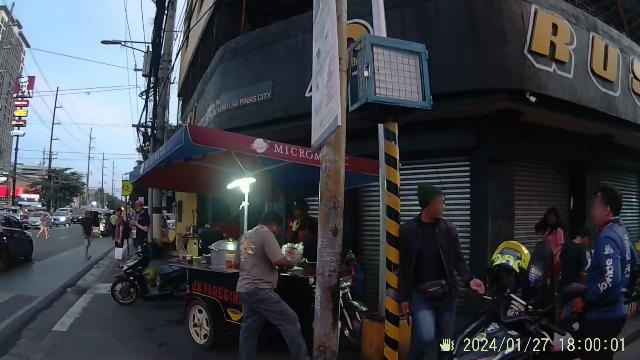motorcycle: (106, 236, 158, 306)
street_vendor_cart: (163, 134, 314, 300)
utility_post: (47, 79, 69, 163)
